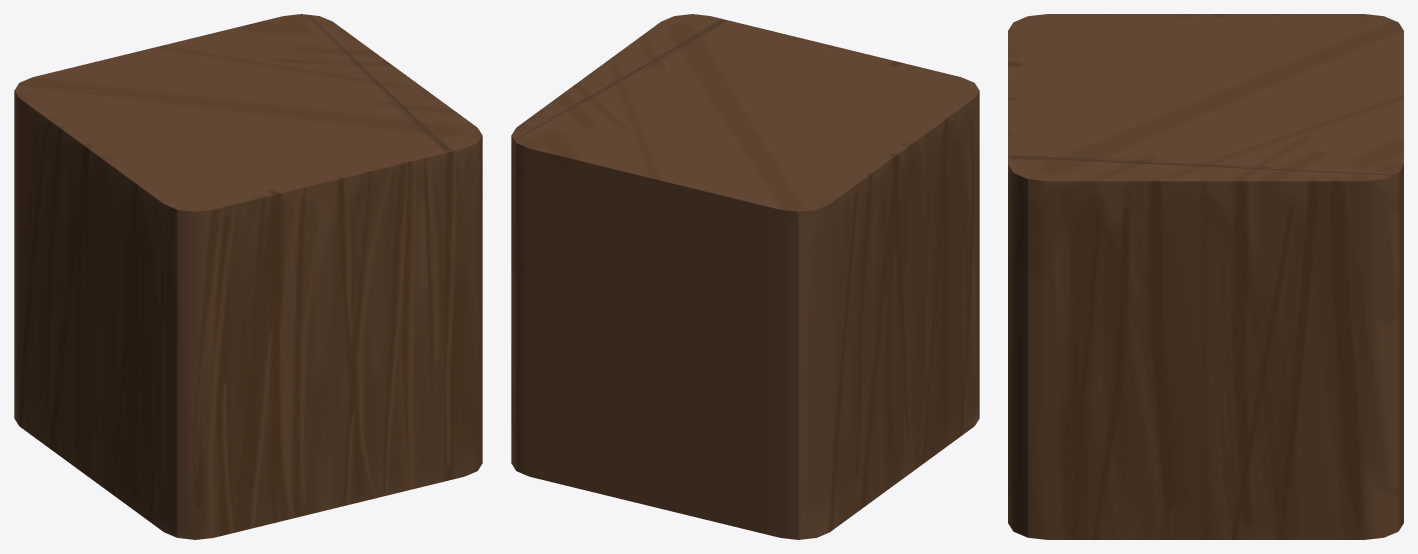
The model's file is Wood_block.fbx.
3 renders of one model, left to right at view 1: azimuth 30°, elevation 25°; view 2: azimuth 150°, elevation 25°; view 3: azimuth 270°, elevation 25°, orthographic. The views are drawn at different scales.
Parts seen in each view (by area): view 1: pCube60; view 2: pCube60; view 3: pCube60.
Part boxes in pixels (x1,y1,x2,y2): pCube60: [14, 14, 482, 539]; pCube60: [511, 14, 979, 539]; pCube60: [1008, 14, 1403, 539].
Bounding box in the file's own units: 6 × 6 × 6.
1 material, 1 textured.
